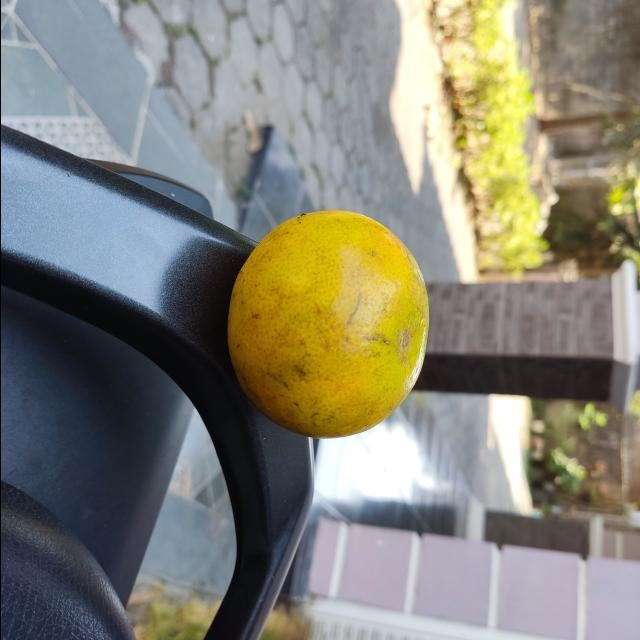agrume: (228, 208, 432, 441)
